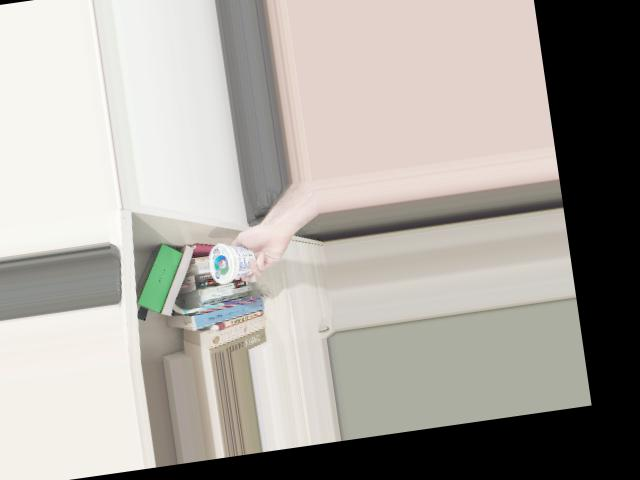cotage: (204, 239, 266, 286)
